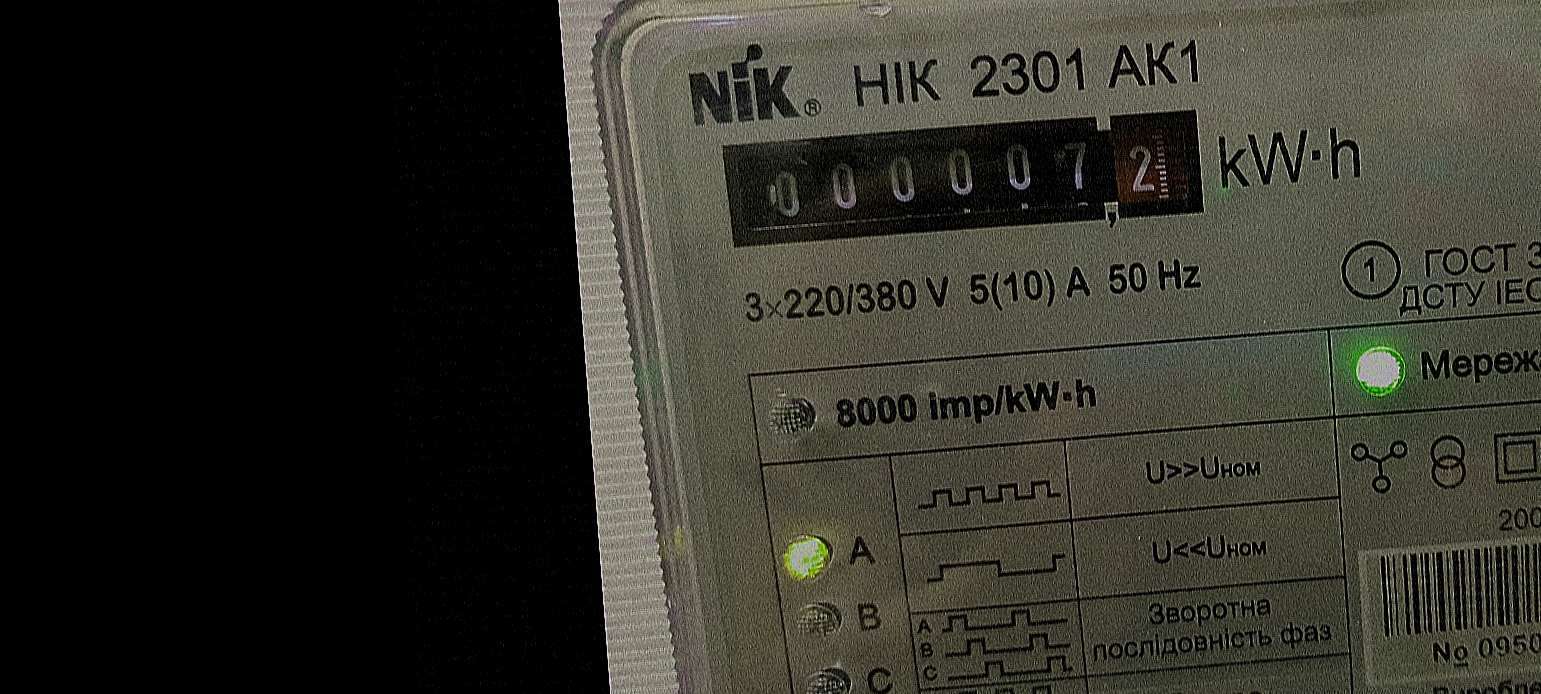0: (825, 157, 863, 211), (1001, 139, 1037, 194), (943, 143, 978, 198), (769, 166, 805, 219), (885, 150, 920, 204)
2: (1125, 141, 1159, 194)
7: (1059, 136, 1093, 193)
screen: (703, 88, 1226, 268)
